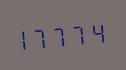four: (90, 17, 107, 46)
one: (18, 23, 35, 52)
seven: (54, 20, 71, 49), (36, 22, 53, 50), (72, 19, 89, 47)
